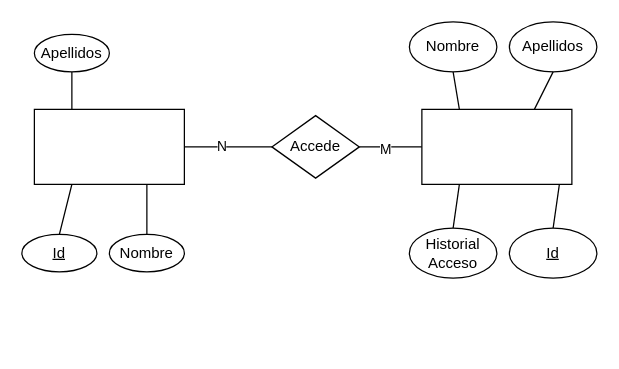
Image size: 619x369. Some labels were removed from this diagram. Here are the shapes that lost their labels. From the top down, the box of each, then its label:
(33, 108, 184, 184): Trabajador
(421, 108, 572, 184): Cliente
